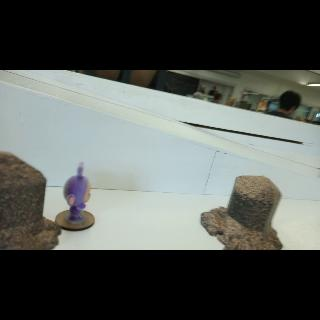teletubby: (63, 163, 91, 217)
